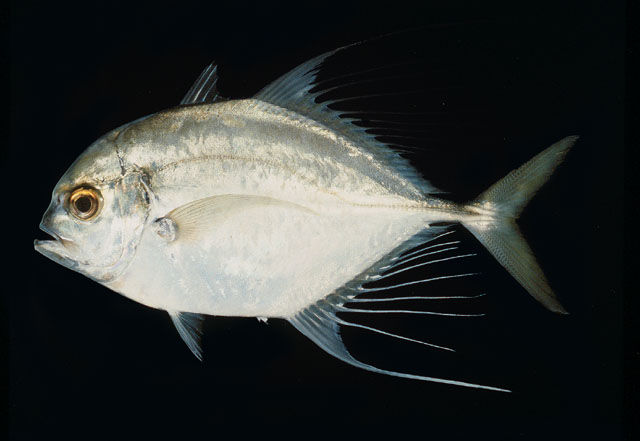fish: (31, 42, 579, 394)
